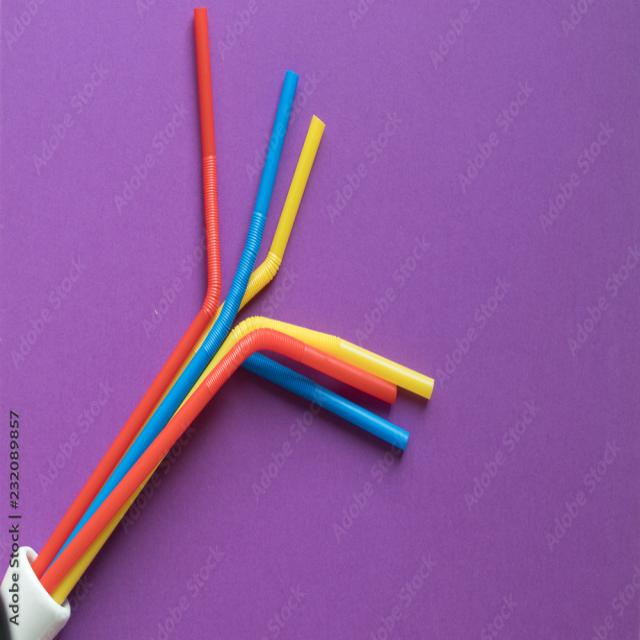plastic: (179, 6, 224, 338)
